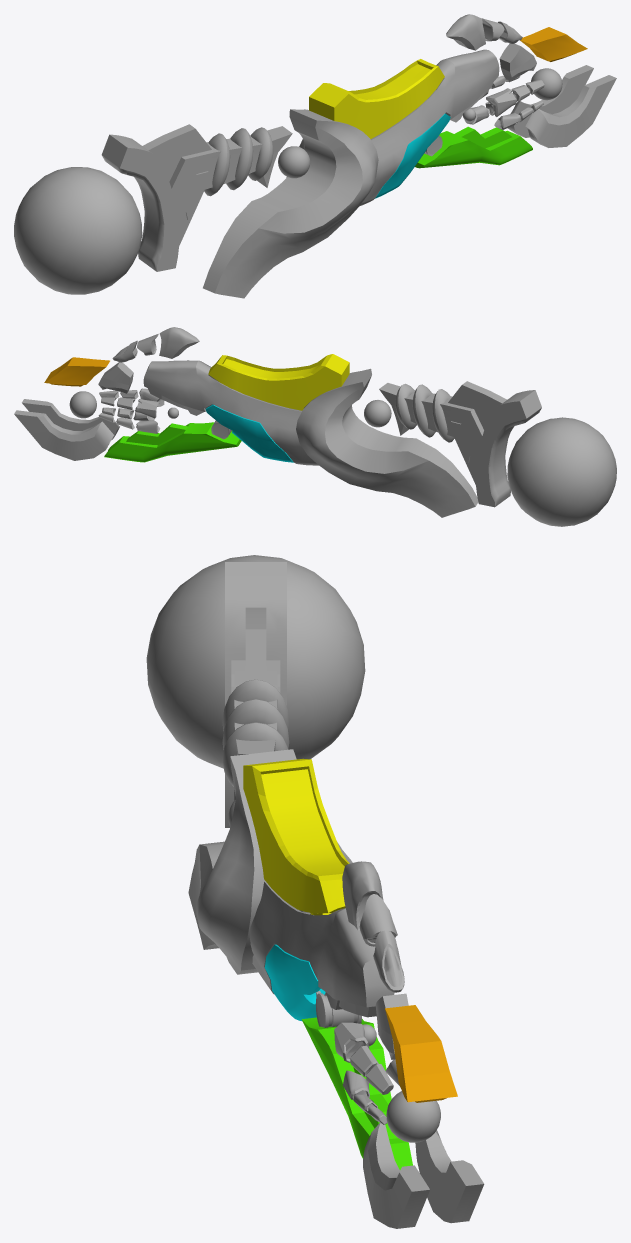
Rendered from Armfortexturing.fbx.
3 views of the same model, one above another, from view 1: azimuth 30°, elevation 25°; view 2: azimuth 150°, elevation 25°; view 3: azimuth 270°, elevation 25° (orthographic). The views are drawn at different scales.
Visible parts, largest first — view 1: WholeArm1; view 2: WholeArm1; view 3: WholeArm1.
Part boxes in pixels (x1,y1,x2,y2): WholeArm1: (14,14,616,298); WholeArm1: (14,327,616,526); WholeArm1: (146,555,484,1228).
Size of the model in its own units: 57.46 by 15.7 by 15.38.
